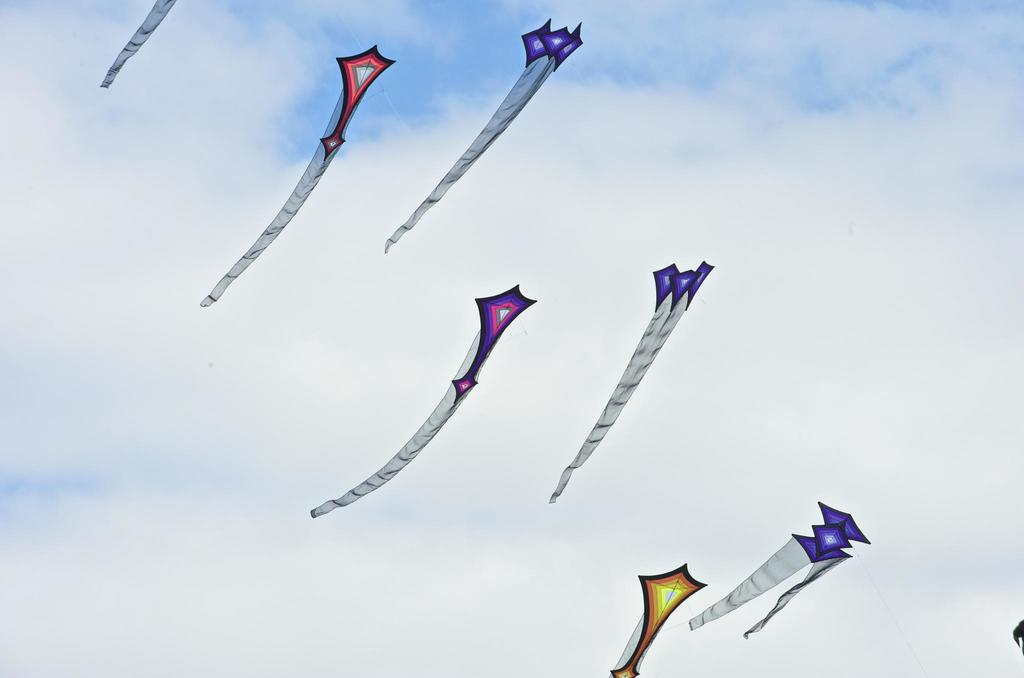kite: (96, 1, 916, 678)
